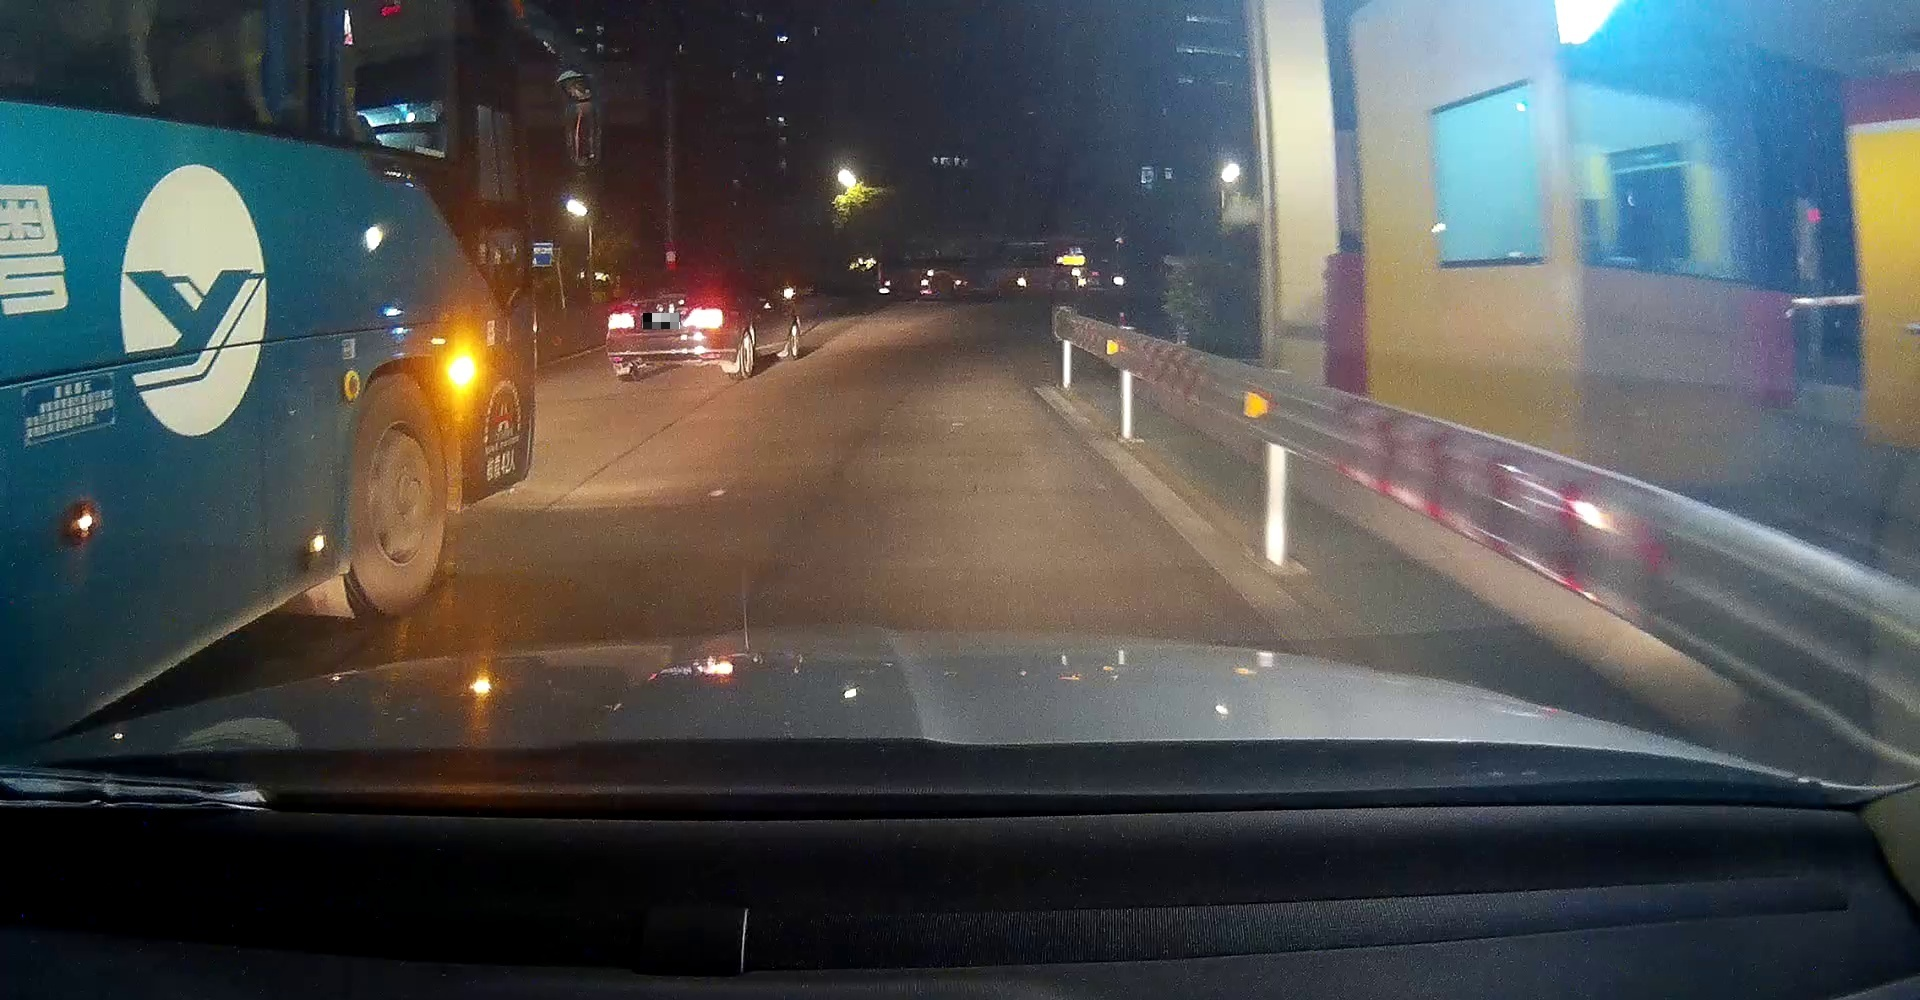L_light: (606, 312, 634, 327)
R_light: (681, 308, 723, 329)
T_light: (657, 294, 686, 299)
night-no: (604, 266, 728, 383)
plate_1: (643, 313, 681, 329)
